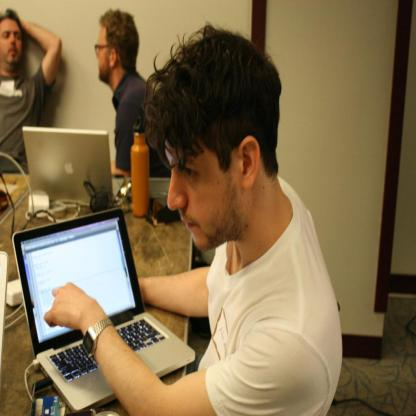board: (10, 206, 193, 416), (22, 127, 125, 208), (131, 117, 150, 218)
